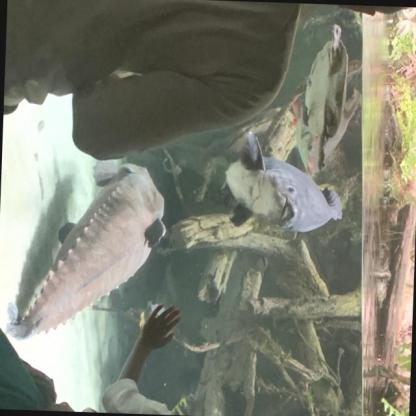fish: (6, 154, 168, 344), (220, 128, 346, 239)
